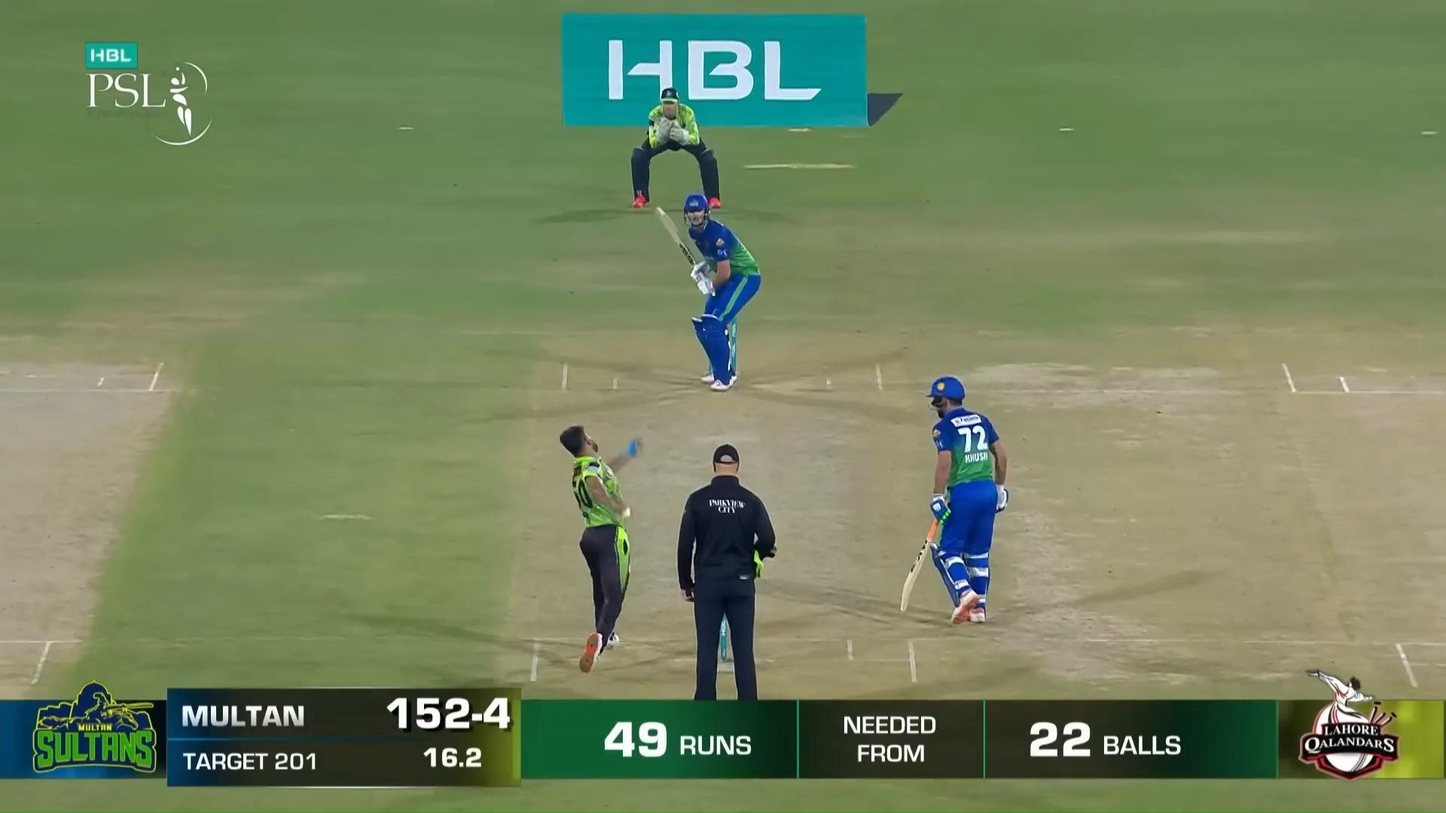batsman: (654, 191, 761, 392)
